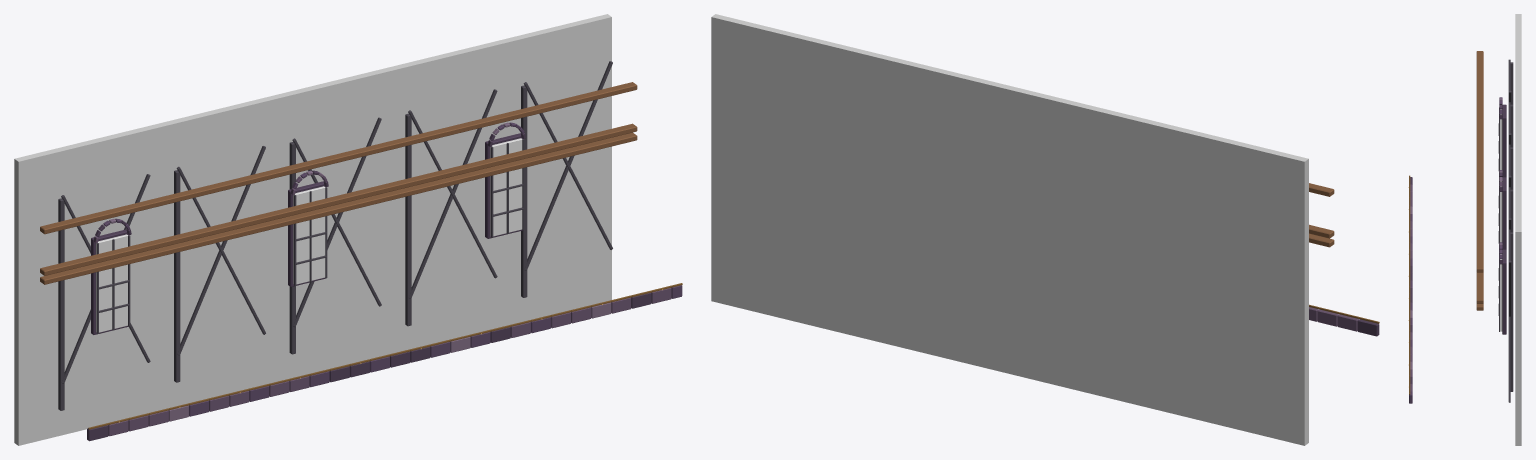
The model's file is SM_Workshop_Background_03.fbx.
The picture shows the model from 3 angles, left to right: view 1: azimuth 30°, elevation 25°; view 2: azimuth 150°, elevation 25°; view 3: azimuth 270°, elevation 25°; orthographic projection. The views are drawn at different scales.
Parts seen in each view (by area): view 1: SM_Workshop_Background_03; view 2: SM_Workshop_Background_03; view 3: SM_Workshop_Background_03.
Boxes of the visible parts, x1,y1,x2,y2 form: SM_Workshop_Background_03: [14, 14, 682, 445]; SM_Workshop_Background_03: [711, 14, 1379, 445]; SM_Workshop_Background_03: [1408, 14, 1521, 445].
Size of the model in its own units: 2952 by 649 by 1350.
